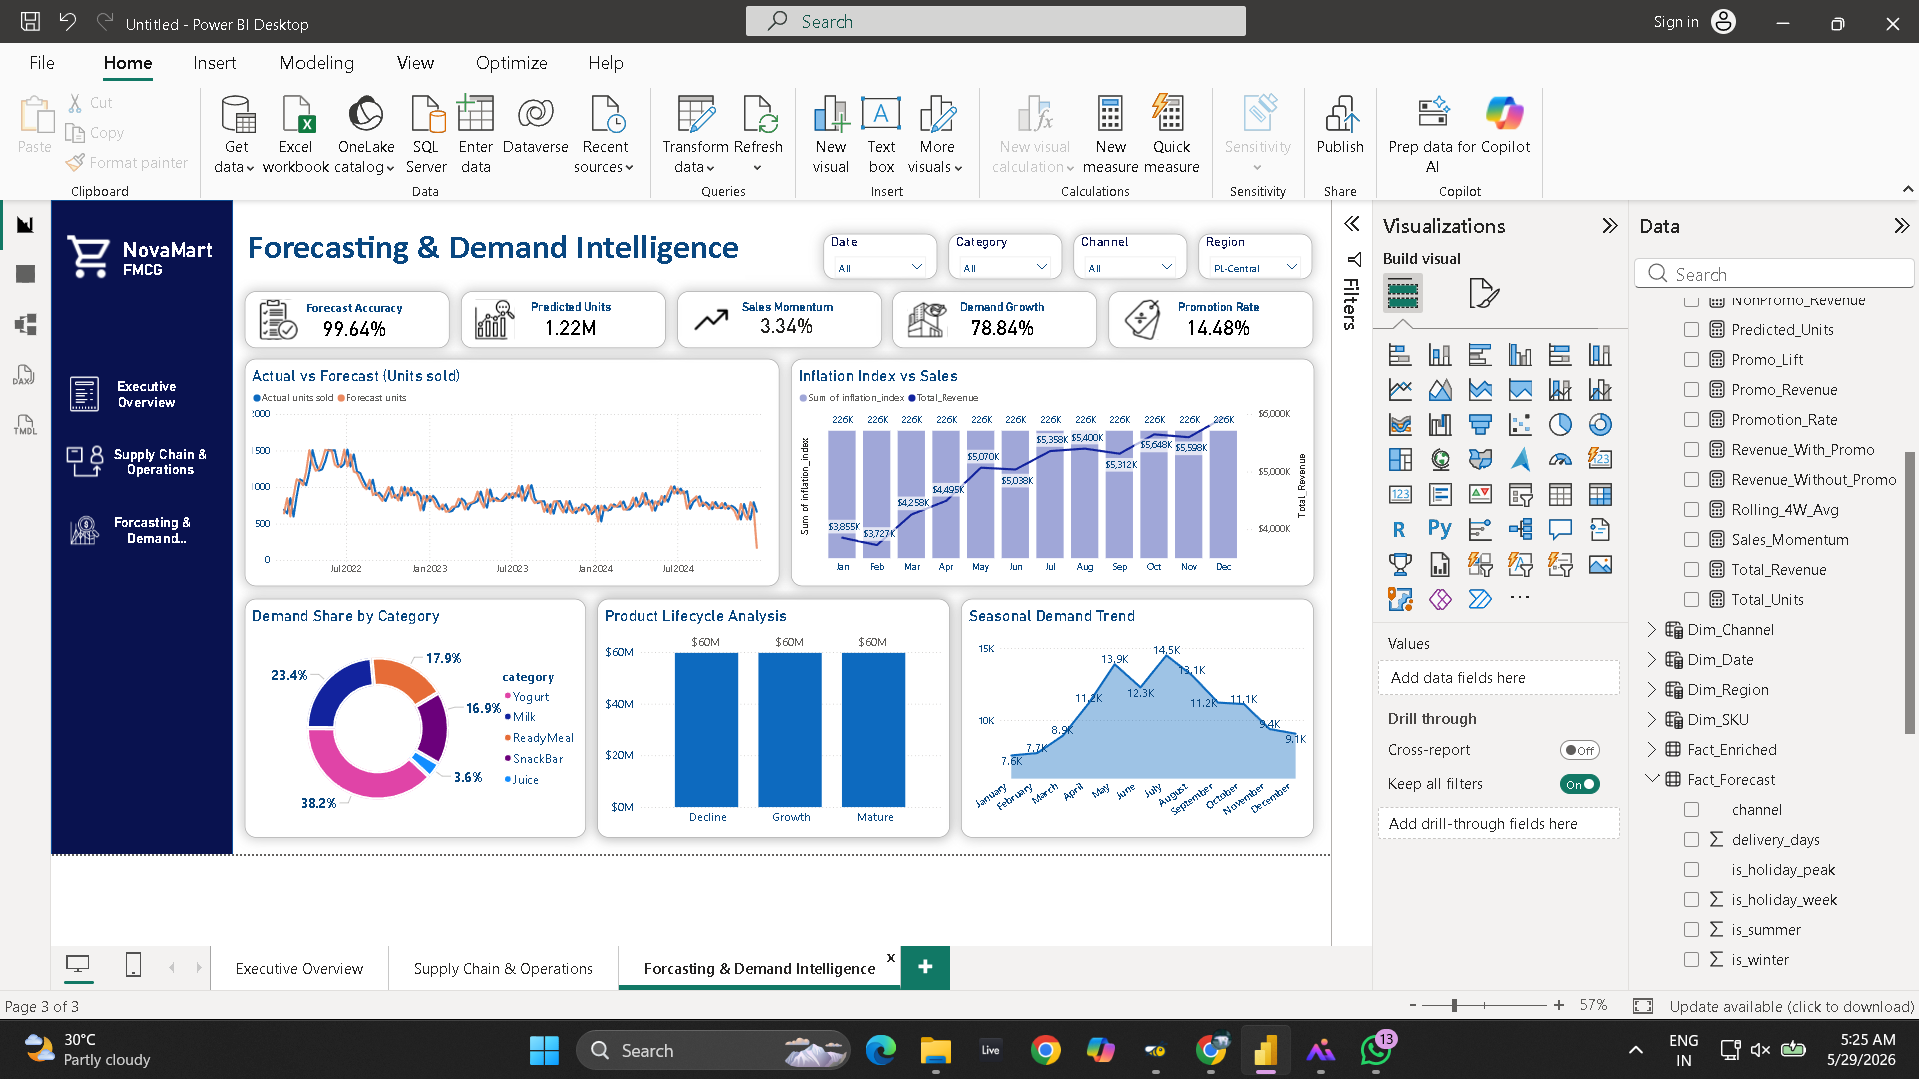

The page's visual inventory and layout, read from the dashboard file:
{"tool":"powerbi","page":{"name":"Forcasting & Demand Intelligence","canvas":[1800,920],"ordinal":2},"visuals":[{"type":"shape","box":[0,0,256,1024],"z":6000},{"type":"actionButton","box":[16,240,208,64],"z":6001},{"type":"actionButton","box":[16,336,208,64],"z":6002},{"type":"actionButton","box":[16,32,80,96],"z":6003},{"type":"textbox","box":[96,48,144,48],"z":6004},{"type":"textbox","box":[96,80,80,48],"z":6005},{"type":"actionButton","box":[16,432,208,64],"z":6006},{"type":"card","title":"Forecast Accuracy","fields":{"Values":["Measures_Table (2).Forecast_Accuracy"]},"box":[272,128,288,80],"z":6007},{"type":"card","title":"Predicted Units","fields":{"Values":["Measures_Table (2).Predicted_Units"]},"box":[576,128,288,80],"z":6008},{"type":"card","title":"Sales Momentum","fields":{"Values":["Measures_Table (2).Sales_Momentum"]},"box":[880,128,288,80],"z":6009},{"type":"card","title":"Demand Growth","fields":{"Values":["Measures_Table (2).Demand_Growth"]},"box":[1184,128,288,80],"z":6010},{"type":"actionButton","box":[288,128,64,80],"z":6011},{"type":"actionButton","box":[592,128,64,80],"z":6012},{"type":"actionButton","box":[896,128,64,80],"z":6013},{"type":"actionButton","box":[1200,128,64,80],"z":6014},{"type":"slicer","title":"Date","fields":{"Values":["Dim_Date.Date"]},"box":[1086.5,47.5,160,64],"z":6015},{"type":"slicer","title":"Category","fields":{"Values":["Dim_SKU.category"]},"box":[1262.5,47.5,160,64],"z":6016},{"type":"slicer","title":"Channel","fields":{"Values":["Dim_Channel.channel"]},"box":[1438.5,47.5,160,64],"z":6017},{"type":"slicer","title":"Region","fields":{"Values":["Dim_Region.region"]},"box":[1614.5,47.5,160,64],"z":6018},{"type":"textbox","box":[272,32,704,80],"z":6019},{"type":"card","title":"Promotion Rate","fields":{"Values":["Measures_Table (2).Promotion_Rate"]},"box":[1488,128,288,80],"z":6020},{"type":"actionButton","box":[1504,128,64,80],"z":6021},{"type":"lineChart","title":"Actual vs Forecast (Units sold)","fields":{"Category":["Fact_Enriched.week"],"Y":["Sum(Fact_Enriched.units_sold)","Sum(Fact_Enriched.target_next_week)"]},"box":[272,224,752,320],"z":6022},{"type":"areaChart","title":"Seasonal Demand Trend","fields":{"Category":["Fact_Enriched.week.Variation.Date Hierarchy.Month"],"Y":["Sum(Fact_Enriched.rolling_mean_4)"]},"box":[1280,560,496,336],"z":6023},{"type":"lineClusteredColumnComboChart","title":"Inflation Index vs Sales","fields":{"Category":["Dim_Date.Month"],"Y":["Sum(Fact_Enriched.inflation_index)"],"Y2":["Measures_Table (2).Total_Revenue"]},"box":[1040,224,736,320],"z":6024},{"type":"clusteredColumnChart","title":"Product Lifecycle Analysis","fields":{"Category":["Fact_Enriched.lifecycle_stage"],"Y":["Measures_Table (2).Total_Revenue"]},"box":[768,560,496,336],"z":6025},{"type":"donutChart","title":"Demand Share by Category","fields":{"Category":["Dim_SKU.category"],"Y":["Measures_Table (2).Total_Units"]},"box":[272,560,480,336],"z":6026}]}

Visuals, with their boxes on the page's 1800x920 design canvas (x1, y1, x2, y2). These are canvas units, not pixel positions in the 1919x1079 screenshot, which may show the page scaled, cropped or inside an application window:
shape: Rect(0, 0, 256, 1024)
actionButton: Rect(16, 240, 224, 304)
actionButton: Rect(16, 336, 224, 400)
actionButton: Rect(16, 32, 96, 128)
textbox: Rect(96, 48, 240, 96)
textbox: Rect(96, 80, 176, 128)
actionButton: Rect(16, 432, 224, 496)
"Forecast Accuracy" card: Rect(272, 128, 560, 208)
"Predicted Units" card: Rect(576, 128, 864, 208)
"Sales Momentum" card: Rect(880, 128, 1168, 208)
"Demand Growth" card: Rect(1184, 128, 1472, 208)
actionButton: Rect(288, 128, 352, 208)
actionButton: Rect(592, 128, 656, 208)
actionButton: Rect(896, 128, 960, 208)
actionButton: Rect(1200, 128, 1264, 208)
"Date" slicer: Rect(1086, 48, 1246, 112)
"Category" slicer: Rect(1262, 48, 1422, 112)
"Channel" slicer: Rect(1438, 48, 1598, 112)
"Region" slicer: Rect(1614, 48, 1774, 112)
textbox: Rect(272, 32, 976, 112)
"Promotion Rate" card: Rect(1488, 128, 1776, 208)
actionButton: Rect(1504, 128, 1568, 208)
"Actual vs Forecast (Units sold)" lineChart: Rect(272, 224, 1024, 544)
"Seasonal Demand Trend" areaChart: Rect(1280, 560, 1776, 896)
"Inflation Index vs Sales" lineClusteredColumnComboChart: Rect(1040, 224, 1776, 544)
"Product Lifecycle Analysis" clusteredColumnChart: Rect(768, 560, 1264, 896)
"Demand Share by Category" donutChart: Rect(272, 560, 752, 896)
